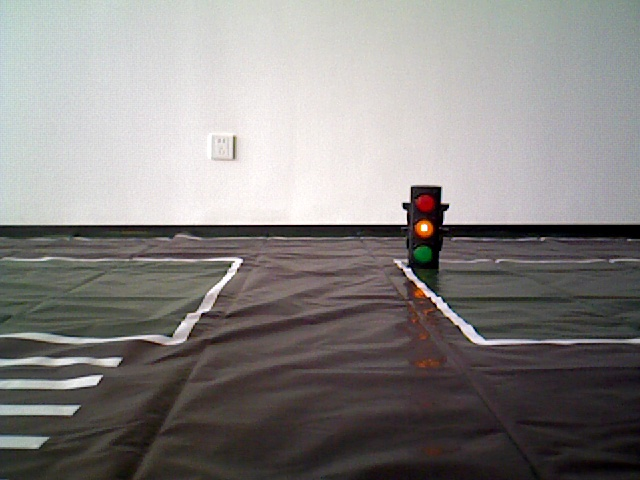yellow: (408, 183, 443, 271)
